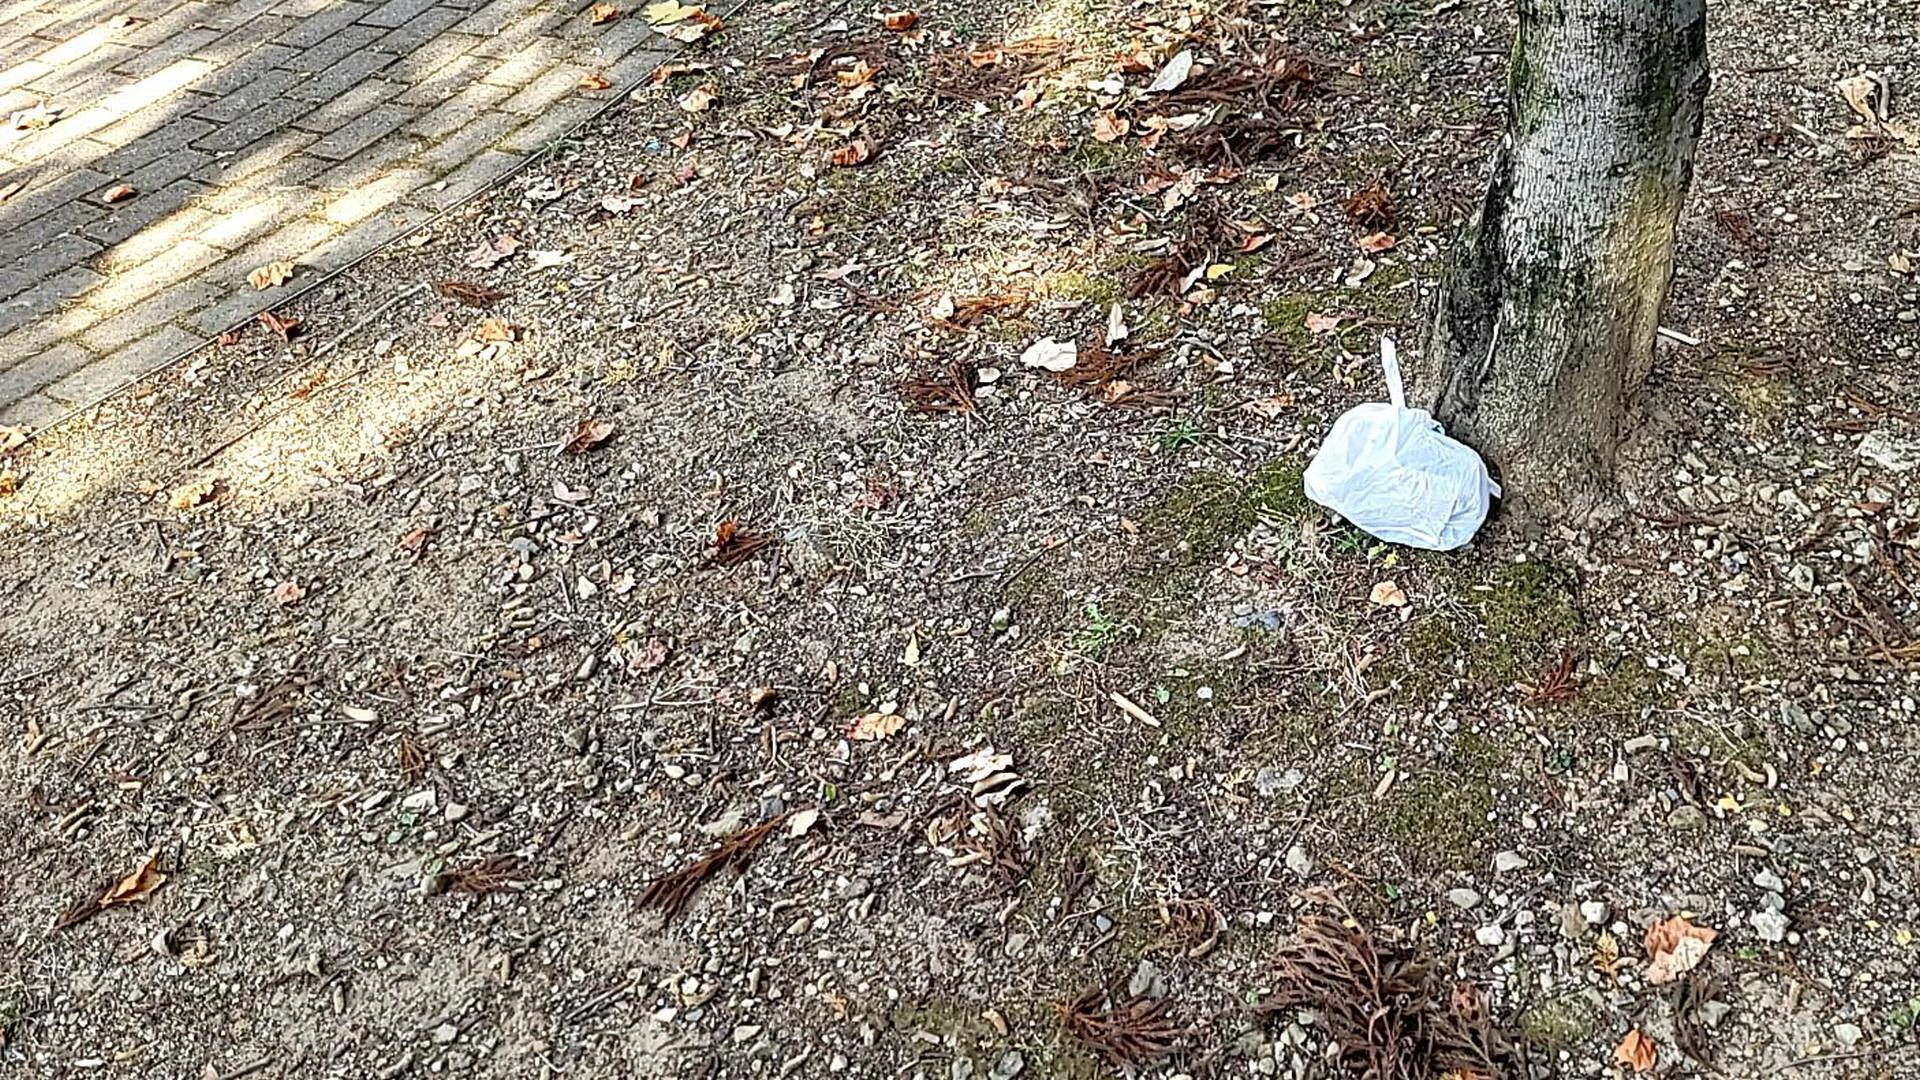white_bag: (1267, 330, 1516, 564)
